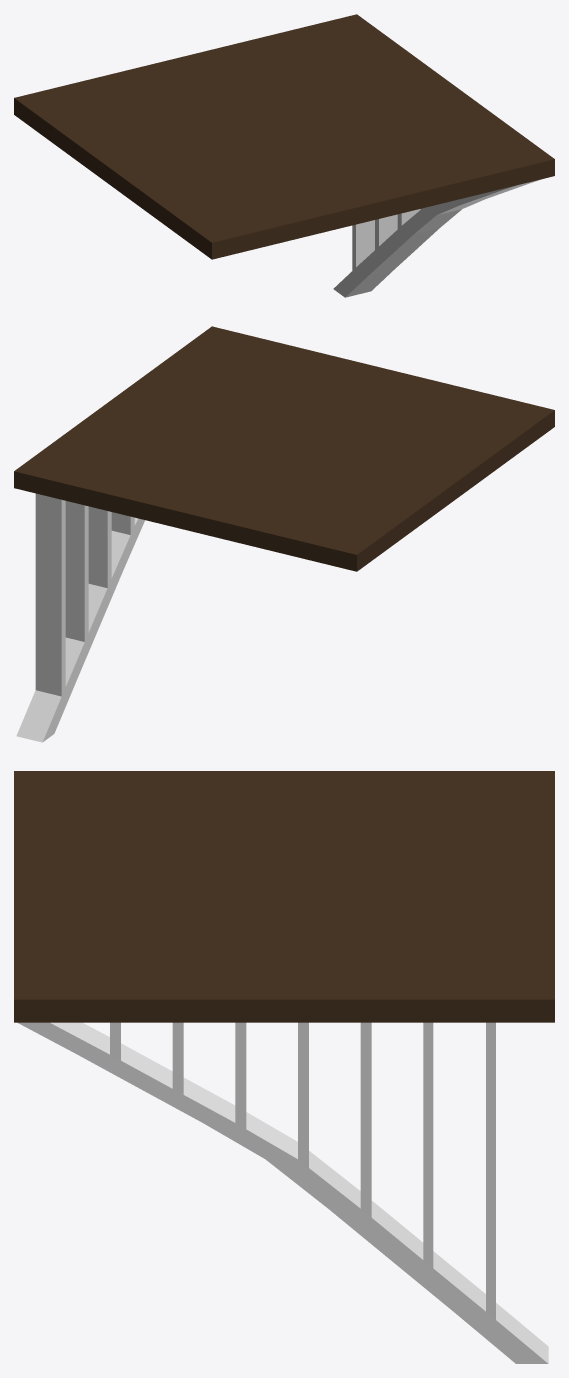
File: HangingFloorR.fbx
3 views of the same model, one above another, from view 1: azimuth 30°, elevation 25°; view 2: azimuth 150°, elevation 25°; view 3: azimuth 270°, elevation 25° (orthographic). The views are drawn at different scales.
Parts seen in each view (by area): view 1: HANGING FLOOR, FRAMES; view 2: HANGING FLOOR, FRAMES; view 3: HANGING FLOOR, FRAMES.
Boxes of the visible parts, bbox=[...] form: HANGING FLOOR: bbox=[14, 14, 554, 259]; FRAMES: bbox=[333, 179, 541, 297]; HANGING FLOOR: bbox=[14, 326, 554, 571]; FRAMES: bbox=[16, 493, 145, 742]; HANGING FLOOR: bbox=[14, 771, 554, 1022]; FRAMES: bbox=[17, 1022, 548, 1363].
Size of the model in its own units: 800 by 594 by 800.
